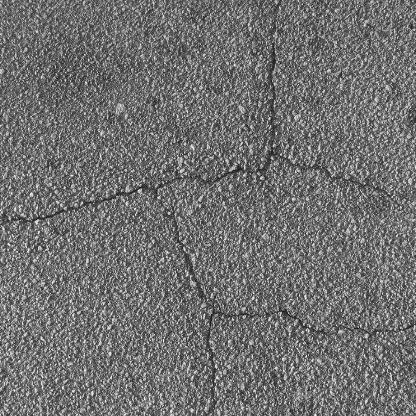Cracks: (0, 151, 403, 223), (173, 225, 219, 416), (222, 301, 416, 337), (266, 0, 285, 151)
